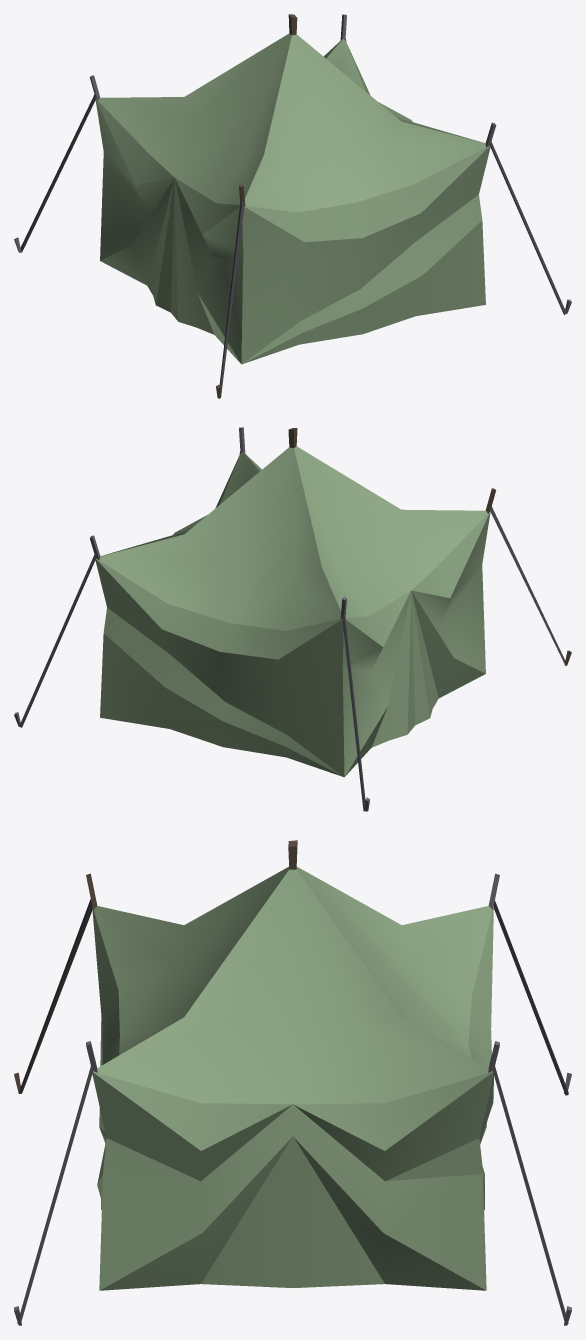
The model's file is desert_tent.glb.
3 views of the same model, one above another, from view 1: azimuth 30°, elevation 25°; view 2: azimuth 150°, elevation 25°; view 3: azimuth 270°, elevation 25° (orthographic). The views are drawn at different scales.
Visible parts, largest first — view 1: tent; view 2: tent; view 3: tent.
Boxes of the visible parts, box(x1,y1,x2,y2) form: tent: box(14, 14, 571, 398); tent: box(14, 427, 571, 811); tent: box(14, 840, 571, 1325).
Size of the model in its own units: 4.9 by 3.55 by 4.88.
1 material, 1 textured.
